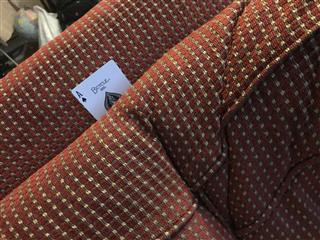AceOfSpades: (70, 58, 131, 120)
